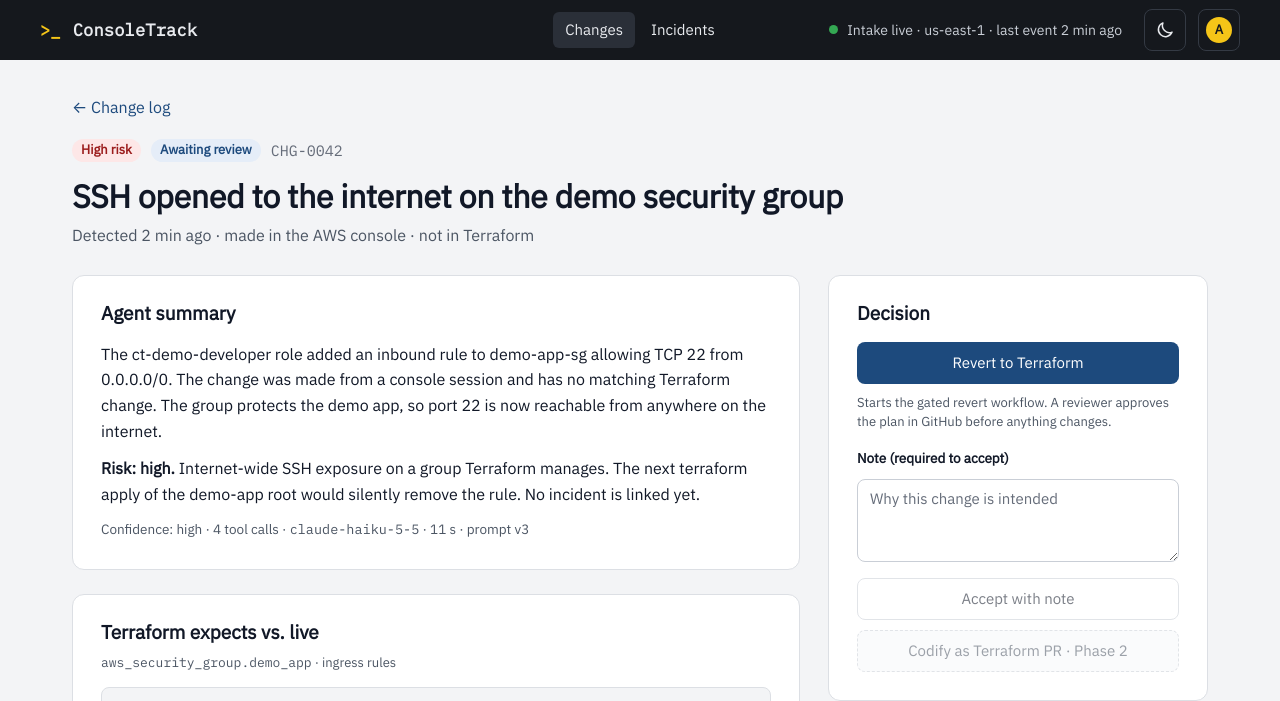
it: change detail › Accept › shows a conflict and reloads when someone decided first
Expected: the heading "SSH opened to the internet on the demo security group" is shown, [72,175,843,217]
Type "fine" into the text box labelled "Note (required to accept)" at (1018,521), box [857,479,1179,562]
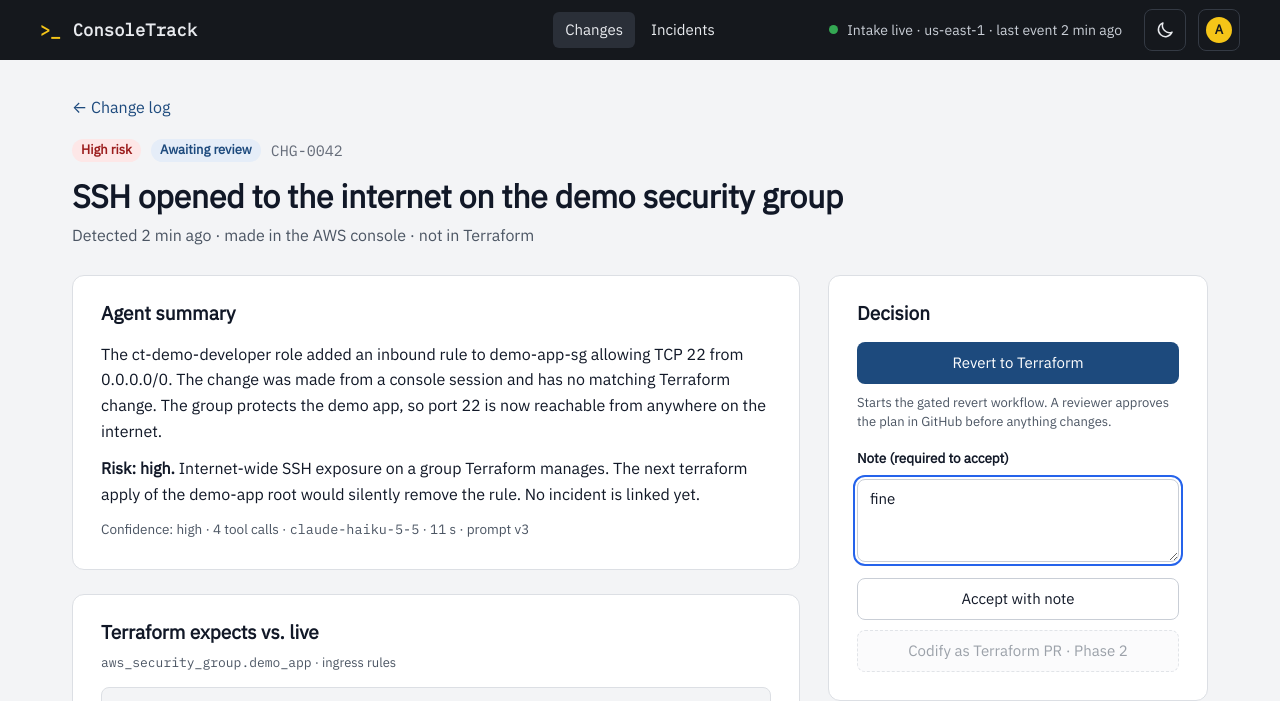
Click the button "Accept with note" at (1018,599), box [857,578,1179,620]
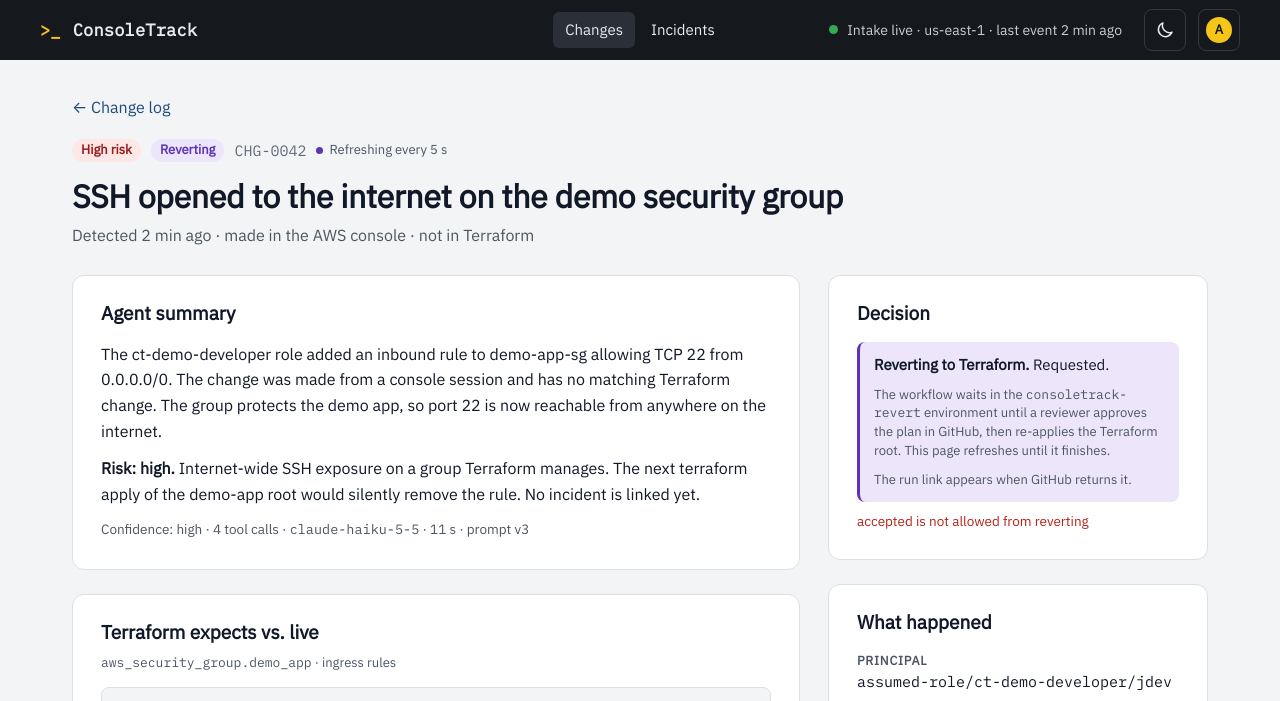
Result: the text "accepted is not allowed from reverting" is shown at [857,512,1089,530]
Result: the text "Reverting" is shown at [151,139,224,162]
